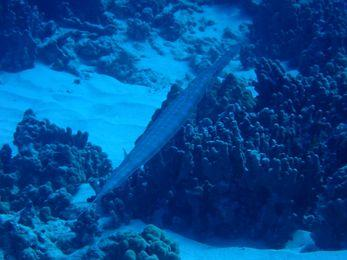Fistularia commersonii: (52, 17, 273, 207)
